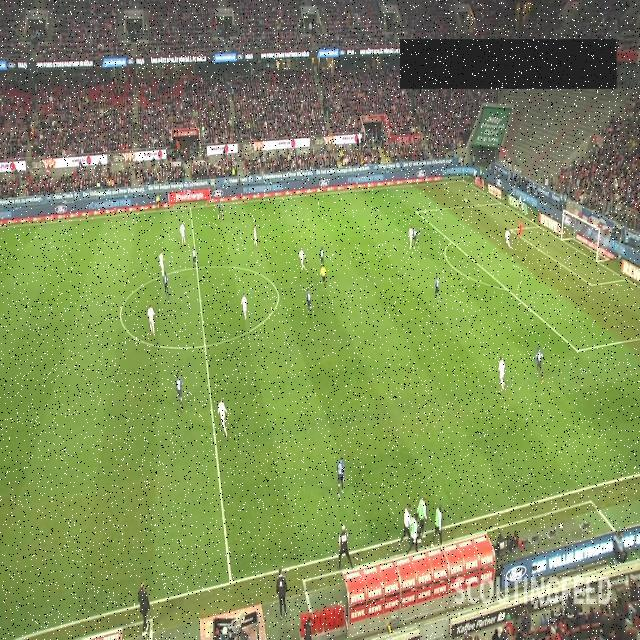Ball: (464, 197, 468, 206)
Corner: (461, 159, 465, 182)
GoalKeeper: (516, 221, 522, 243)
Referee: (320, 262, 327, 290), (155, 192, 161, 213)
TEAM 1: (218, 398, 228, 438), (146, 303, 156, 337), (498, 356, 506, 390), (158, 250, 166, 276), (298, 247, 306, 271), (504, 227, 512, 249), (241, 292, 247, 321), (180, 222, 187, 245), (408, 226, 414, 250), (252, 226, 258, 247)
TEAM 2: (336, 454, 346, 499), (535, 346, 545, 384), (176, 373, 184, 411), (306, 287, 314, 315), (412, 227, 420, 250), (163, 270, 169, 300), (434, 274, 440, 304), (318, 245, 324, 268), (191, 246, 197, 268), (218, 199, 223, 220)
